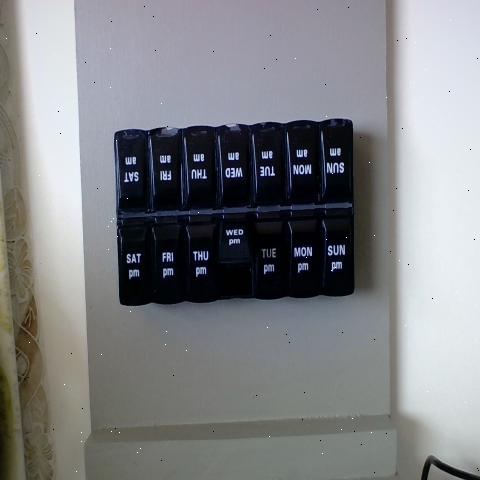FRI-am: (147, 126, 184, 204)
FRI-pm: (152, 219, 186, 306)
MON-am: (287, 120, 318, 201)
MON-pm: (286, 213, 320, 296)
Open: (218, 260, 252, 296)
PillBox: (99, 108, 371, 340)
SAT-am: (117, 130, 148, 210)
SAT-pm: (116, 222, 152, 305)
SUN-am: (319, 118, 353, 201)
SUN-pm: (322, 208, 353, 296)
THU-am: (185, 130, 214, 209)
THU-pm: (184, 216, 220, 305)
TUE-am: (252, 122, 286, 203)
TUE-pm: (252, 218, 284, 298)
WED-am: (218, 126, 250, 209)
